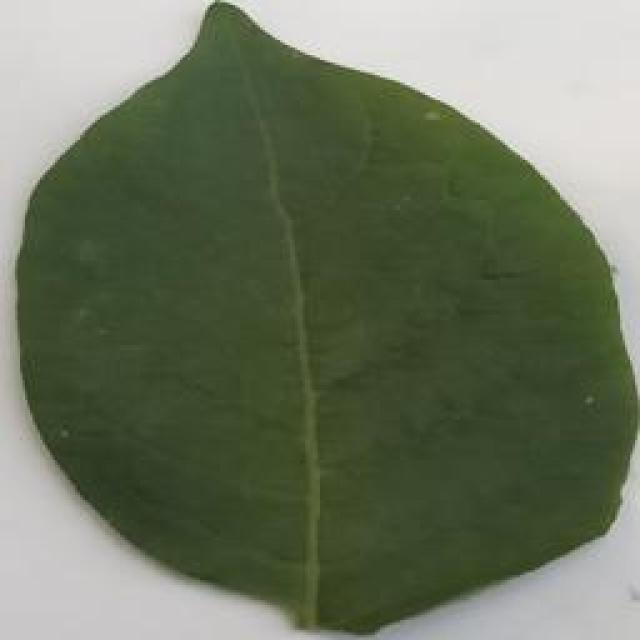Potato_Healthy: (17, 4, 638, 636)
